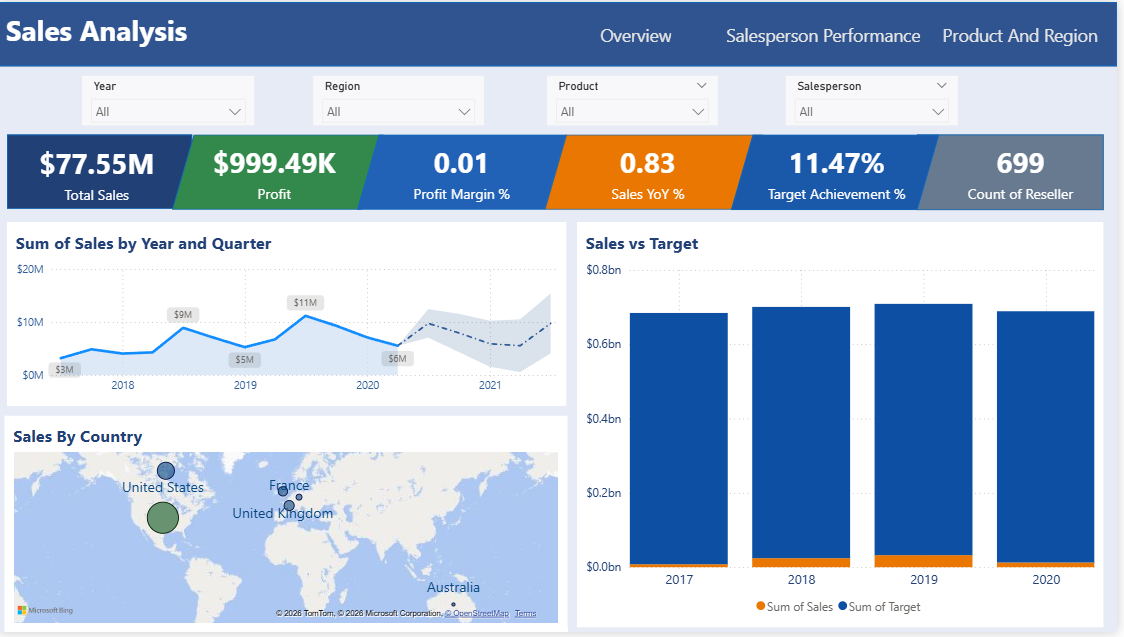

The dashboard page shown, as its layout file describes it:
{"tool":"powerbi","page":{"name":"Dashboard","canvas":[1280,720],"ordinal":0},"visuals":[{"type":"shape","box":[0,0,1280,73.3],"z":0},{"type":"textbox","box":[0,0,341.7,73.3],"z":1000},{"type":"actionButton","box":[645.7,7.1,168.6,60],"z":2000},{"type":"actionButton","box":[1074.3,7.1,190,60],"z":3000},{"type":"actionButton","box":[814.3,7.1,260,60],"z":4000},{"type":"slicer","fields":{"Values":["Sales.OrderDate.Variation.Date Hierarchy.Year"]},"box":[96.4,85,197.1,56.4],"z":5000},{"type":"slicer","fields":{"Values":["Regions.Region"]},"box":[361.7,85,195,56.7],"z":6000},{"type":"shape","box":[11.7,151.7,211.7,85],"z":7000},{"type":"slicer","fields":{"Values":["Products.Product"]},"box":[628.3,85,195,56.7],"z":8000},{"type":"slicer","fields":{"Values":["Salesperson.Salesperson"]},"box":[901.7,85,196.7,56.7],"z":9000},{"type":"shape","box":[200,152,242,86],"z":10000},{"type":"shape","box":[412,152,240,86],"z":11000},{"type":"shape","box":[626,152,250,86],"z":12000},{"type":"shape","box":[1051.7,151.7,213.3,86.7],"z":13000},{"type":"shape","box":[838.3,151.7,238.3,86.7],"z":14000},{"type":"card","fields":{"Values":["Sales.Profit"]},"box":[223.3,151.7,188.3,86.7],"z":15000},{"type":"card","fields":{"Values":["Sales.Profit Margin %"]},"box":[436.7,151.7,188.3,86.7],"z":16000},{"type":"card","fields":{"Values":["Sales.Sales YoY %"]},"box":[650,151.7,188.3,86.7],"z":17000},{"type":"card","fields":{"Values":["Sales.Target Achievement %"]},"box":[865,151.7,188.3,86.7],"z":18000},{"type":"card","fields":{"Values":["Count(Reseller.Reseller)"]},"box":[1075,151.7,188.3,86.7],"z":19000},{"type":"lineChart","fields":{"Y":["Sum(Sales.Sales)"],"Category":["Sales.OrderDate.Variation.Date Hierarchy.Year","Sales.OrderDate.Variation.Date Hierarchy.Quarter"]},"box":[11.1,251.1,638.9,210],"z":20000},{"type":"columnChart","title":"Sales vs Target","fields":{"Y":["Sum(Sales.Sales)","Sum(Targets.Target)"],"Category":["Sales.OrderDate.Variation.Date Hierarchy.Year"]},"box":[662.9,251.4,601.4,462.9],"z":21000},{"type":"card","fields":{"Values":["Sales.Total Sales"]},"box":[28.8,151.2,171.2,87.5],"z":22000},{"type":"map","title":"Sales By Country","fields":{"Category":["Regions.Country"],"Size":["Sales.Total Sales"]},"box":[8.6,472.9,642.9,247.1],"z":23000}]}

Visuals, with their boxes in screenshot pixels (x1, y1, x2, y2), scaled from the page's 1280x720 canvas onto the 1124x637 screenshot:
shape: crop(0, 0, 1123, 65)
textbox: crop(0, 0, 300, 65)
actionButton: crop(567, 6, 715, 59)
actionButton: crop(943, 6, 1110, 59)
actionButton: crop(715, 6, 943, 59)
slicer - Sales.OrderDate.Variation.Date Hierarchy.Year: crop(85, 75, 258, 125)
slicer - Regions.Region: crop(318, 75, 489, 125)
shape: crop(10, 134, 196, 209)
slicer - Products.Product: crop(552, 75, 723, 125)
slicer - Salesperson.Salesperson: crop(792, 75, 965, 125)
shape: crop(176, 134, 388, 211)
shape: crop(362, 134, 573, 211)
shape: crop(550, 134, 769, 211)
shape: crop(924, 134, 1111, 211)
shape: crop(736, 134, 945, 211)
card - Sales.Profit: crop(196, 134, 361, 211)
card - Sales.Profit Margin %: crop(383, 134, 549, 211)
card - Sales.Sales YoY %: crop(571, 134, 736, 211)
card - Sales.Target Achievement %: crop(760, 134, 925, 211)
card - Count(Reseller.Reseller): crop(944, 134, 1109, 211)
lineChart - Sum(Sales.Sales) x Sales.OrderDate.Variation.Date Hierarchy.Year: crop(10, 222, 571, 408)
"Sales vs Target" columnChart: crop(582, 222, 1110, 632)
card - Sales.Total Sales: crop(25, 134, 176, 211)
"Sales By Country" map: crop(8, 418, 572, 636)
